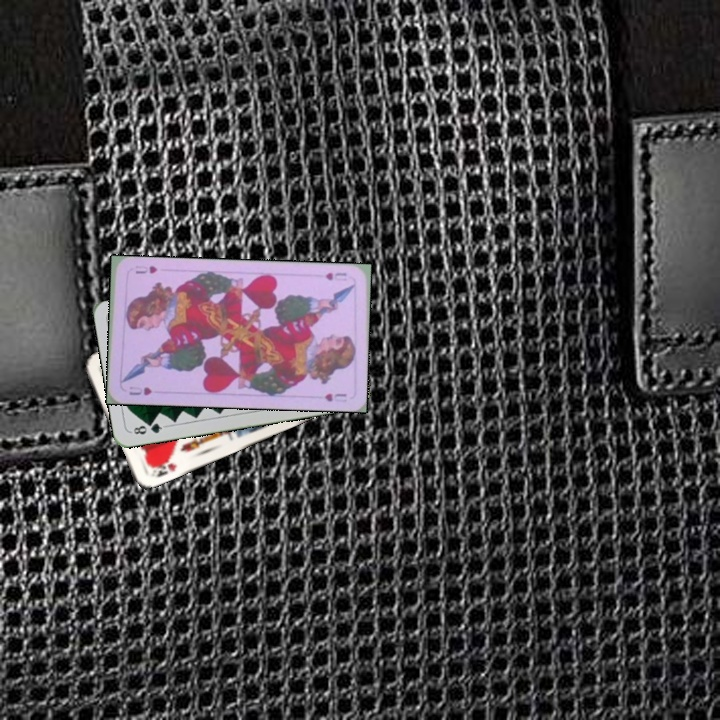G8: (127, 418, 168, 437)
HK: (147, 453, 180, 480)
HU: (321, 268, 349, 284), (125, 383, 154, 398)
